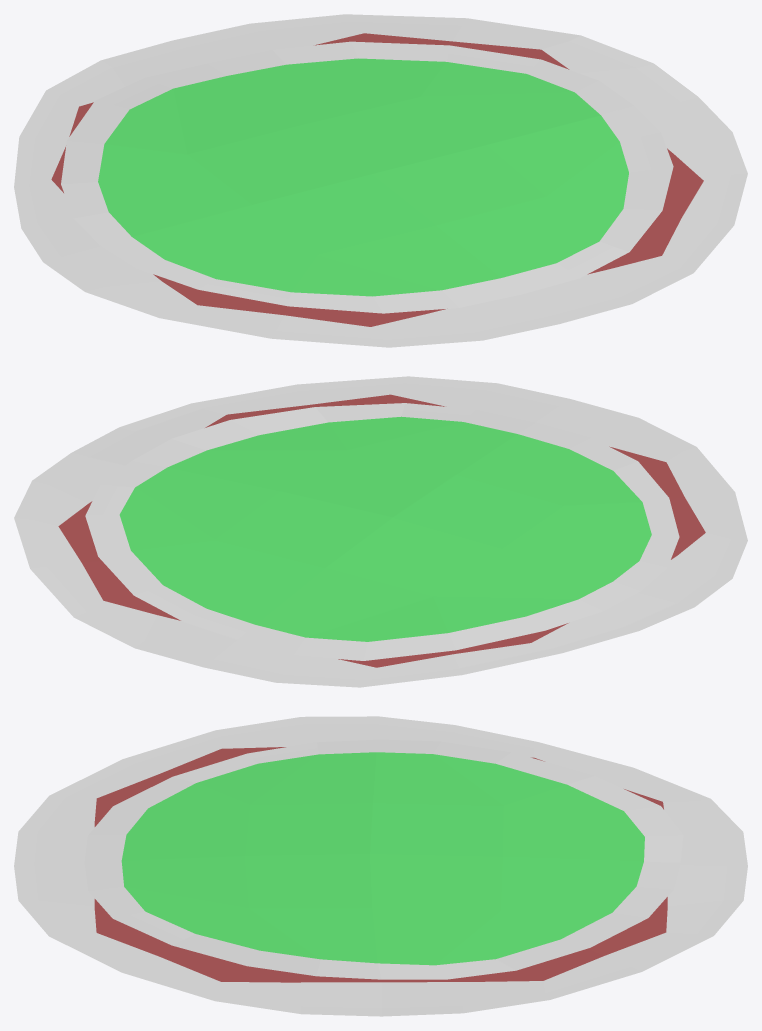
File: ground_01a.fbx
3 views of the same model, one above another, from view 1: azimuth 30°, elevation 25°; view 2: azimuth 150°, elevation 25°; view 3: azimuth 270°, elevation 25° (orthographic). The views are drawn at different scales.
Visible parts, largest first — view 1: Plane.010; view 2: Plane.010; view 3: Plane.010.
Part boxes in pixels (<box>): Plane.010: <box>14,14,747,347</box>; Plane.010: <box>14,376,747,687</box>; Plane.010: <box>14,716,747,1016</box>.
Bounding box in the file's own units: 144 × 2.66 × 147.
